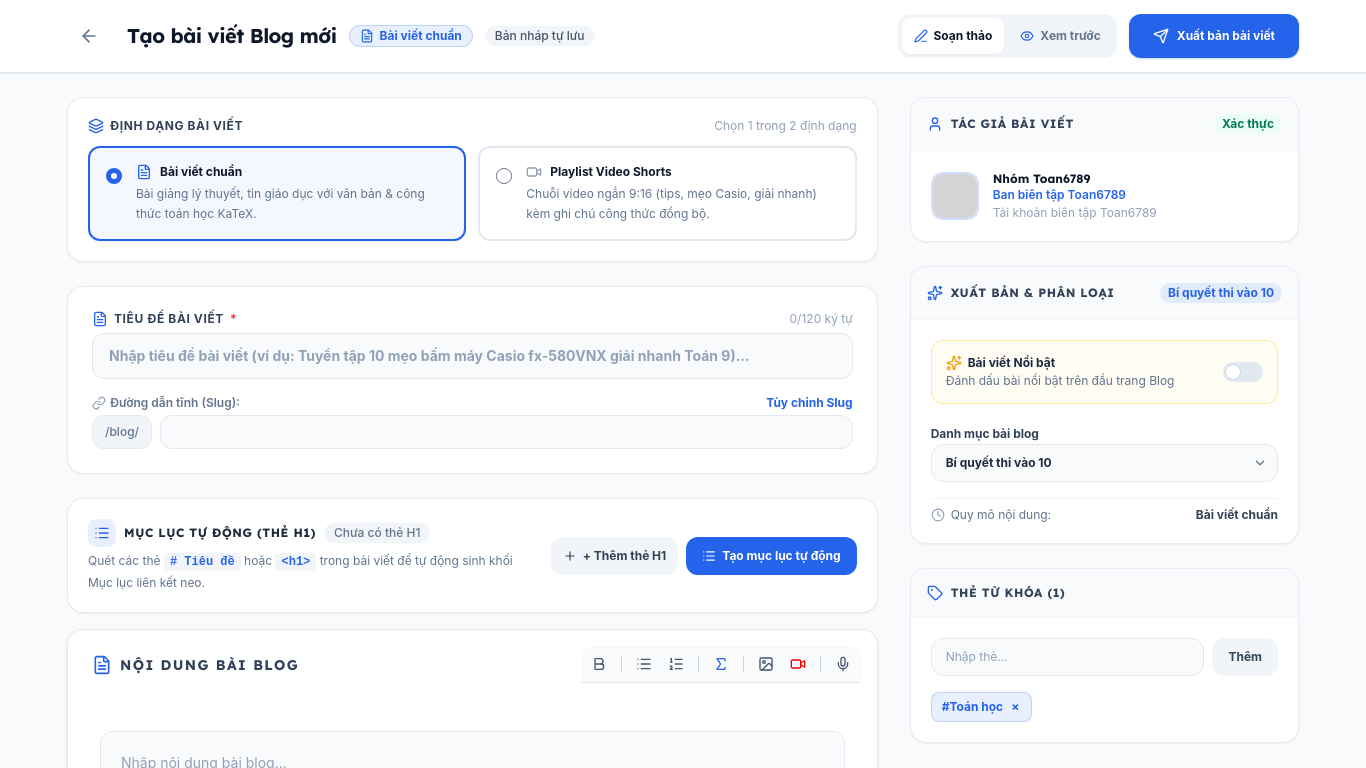
Scenario: CreateBlogPostPage shorts playlist mode › handles image upload/paste and generates guidance matching shorts-blog-layout.html
Step 1. Click the radio button labelled "Playlist Video Shorts" → (504, 176), box [496, 168, 512, 184]
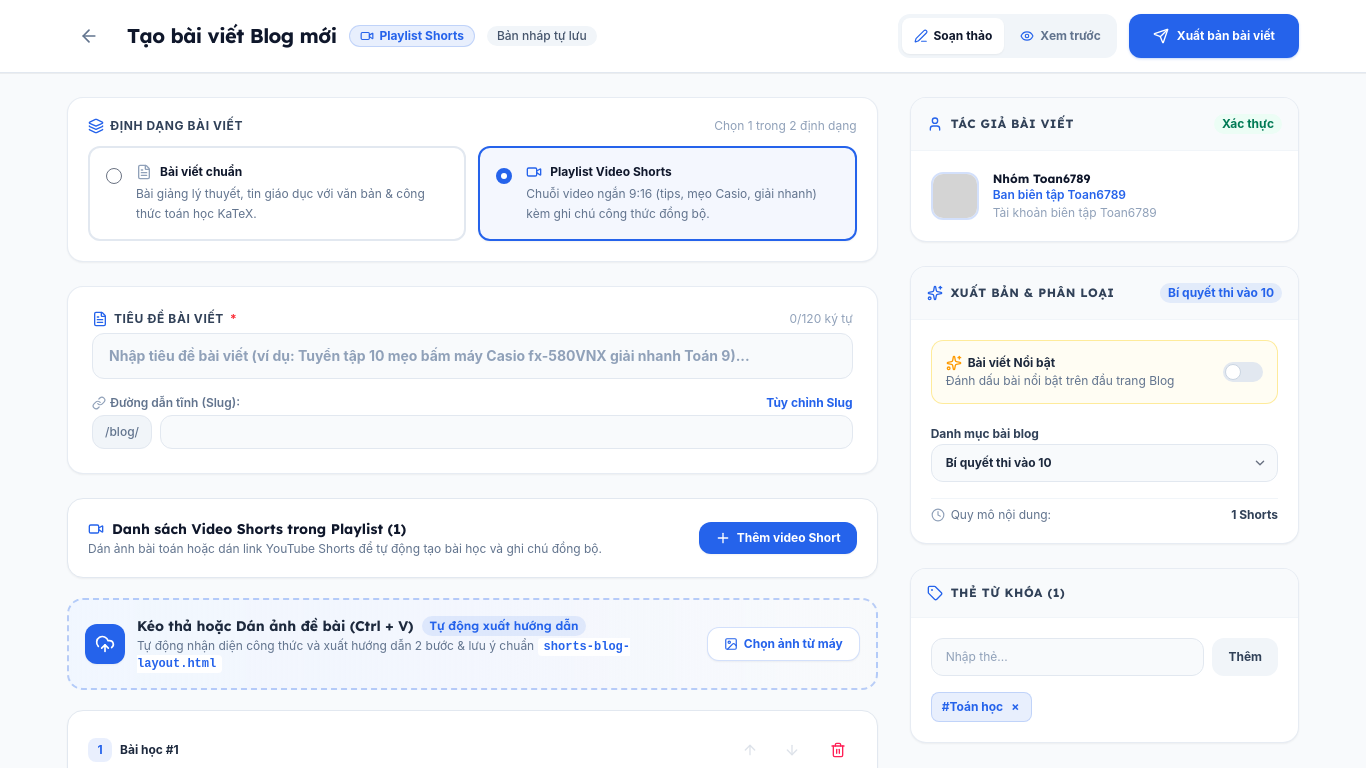
Expected: the file field labelled "Chọn ảnh từ máy" is shown, [707, 627, 860, 661]
